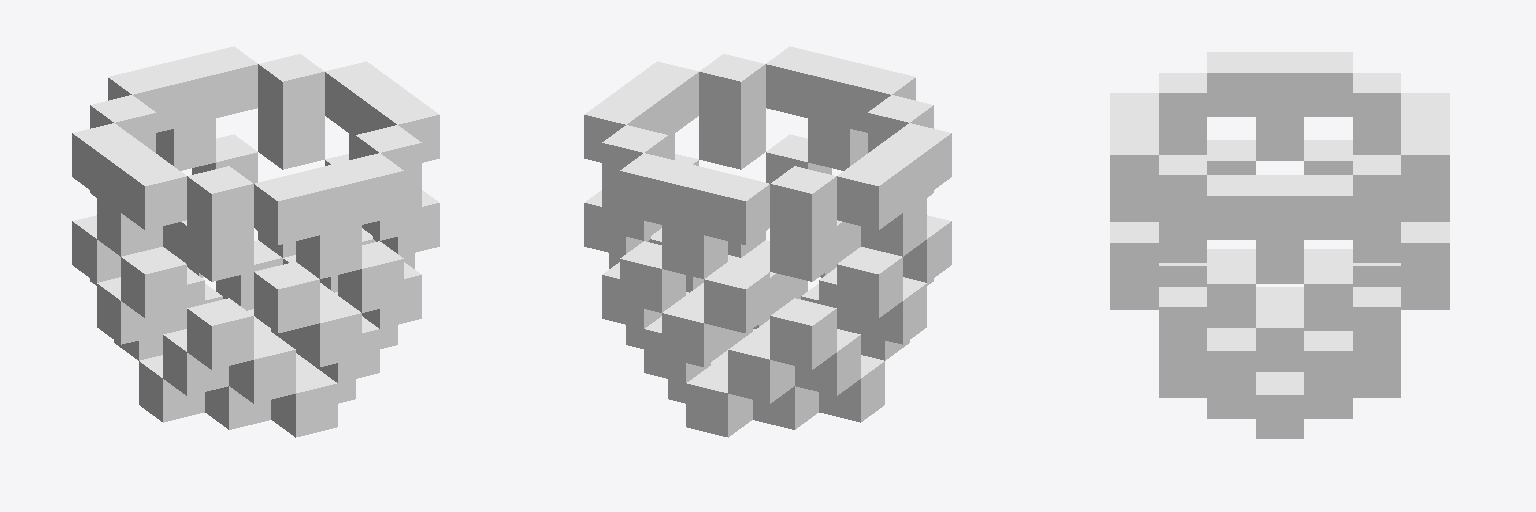
File: F_GarbageBin.obj
The picture shows the model from 3 angles: view 1: azimuth 30°, elevation 25°; view 2: azimuth 150°, elevation 25°; view 3: azimuth 270°, elevation 25°; orthographic projection.
Parts seen in each view (by area): view 1: object 1; view 2: object 1; view 3: object 1.
Boxes of the visible parts, <box> form: object 1: <box>72,46,439,437</box>; object 1: <box>584,46,951,437</box>; object 1: <box>1110,52,1449,438</box>.
Bounding box in the file's own units: 0.7 × 0.6 × 0.7.